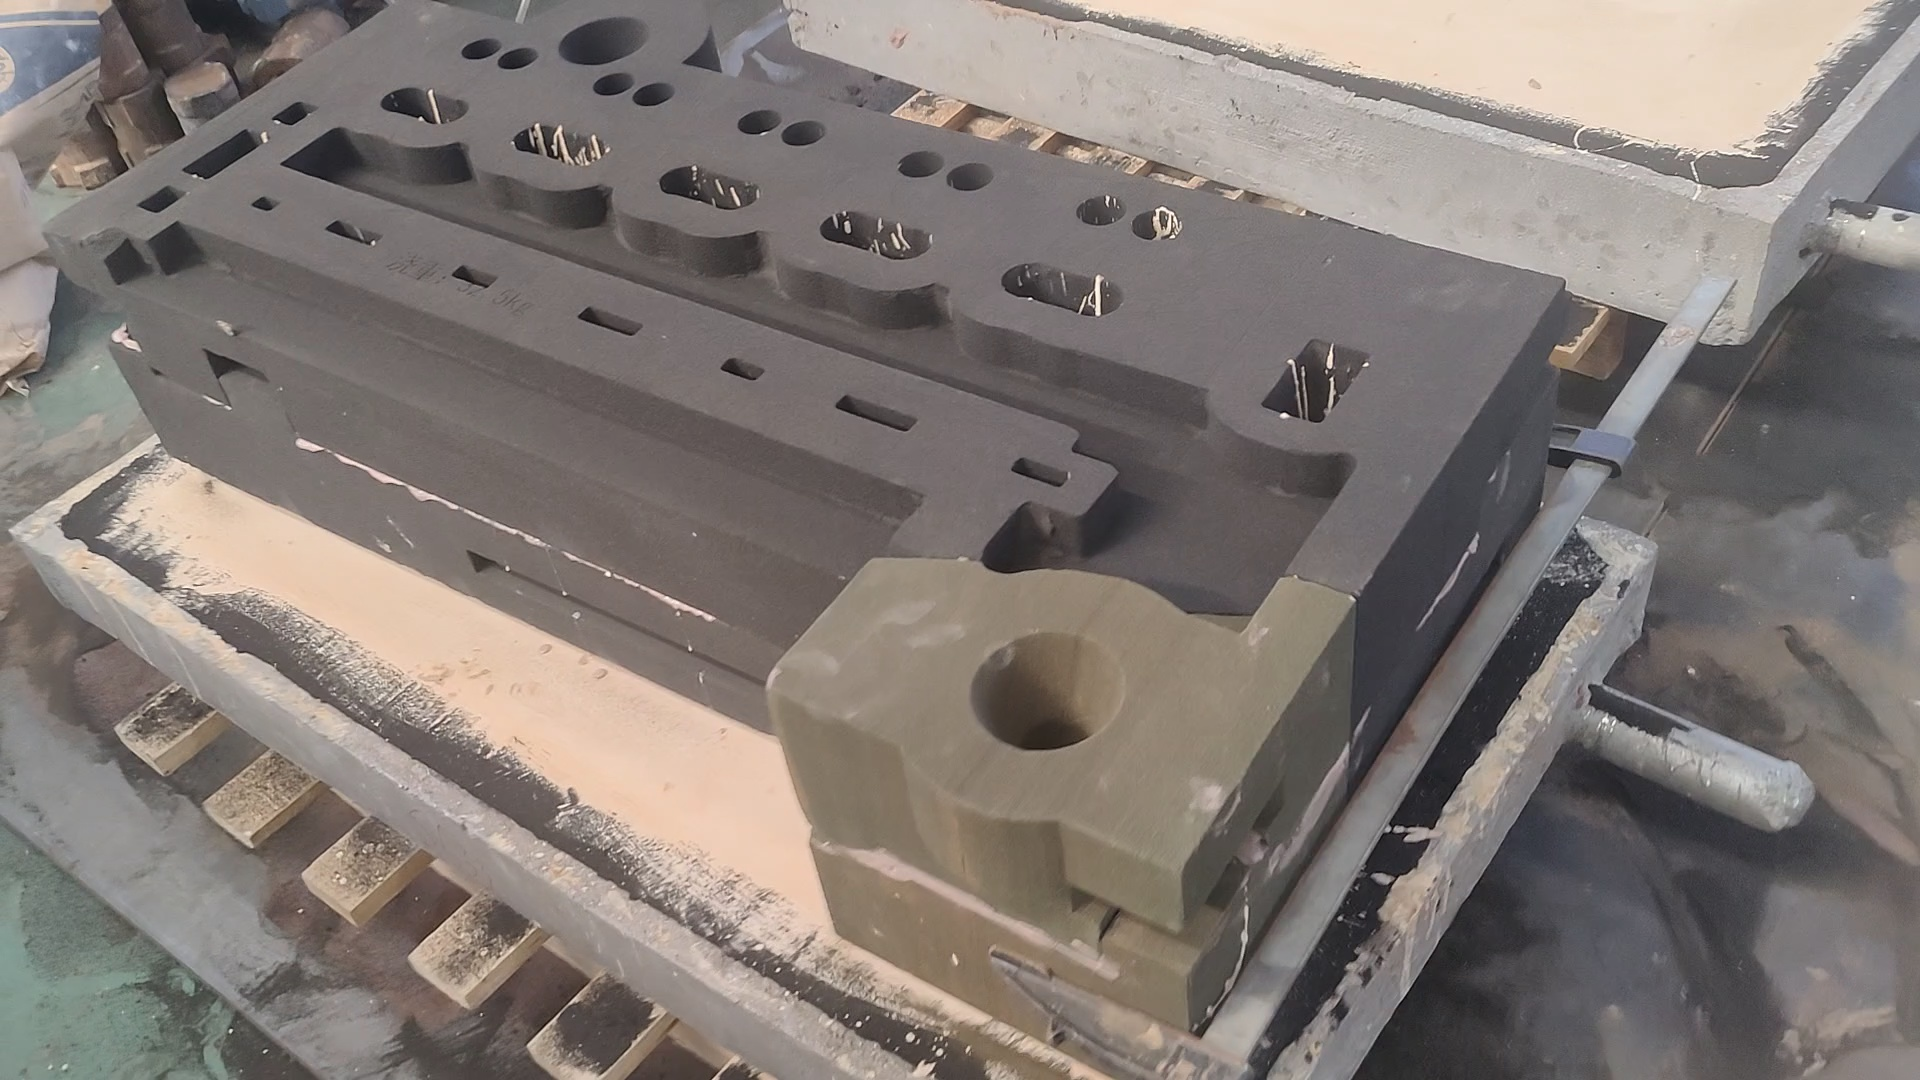pouring hole: (969, 629, 1125, 752), (559, 17, 647, 65)
